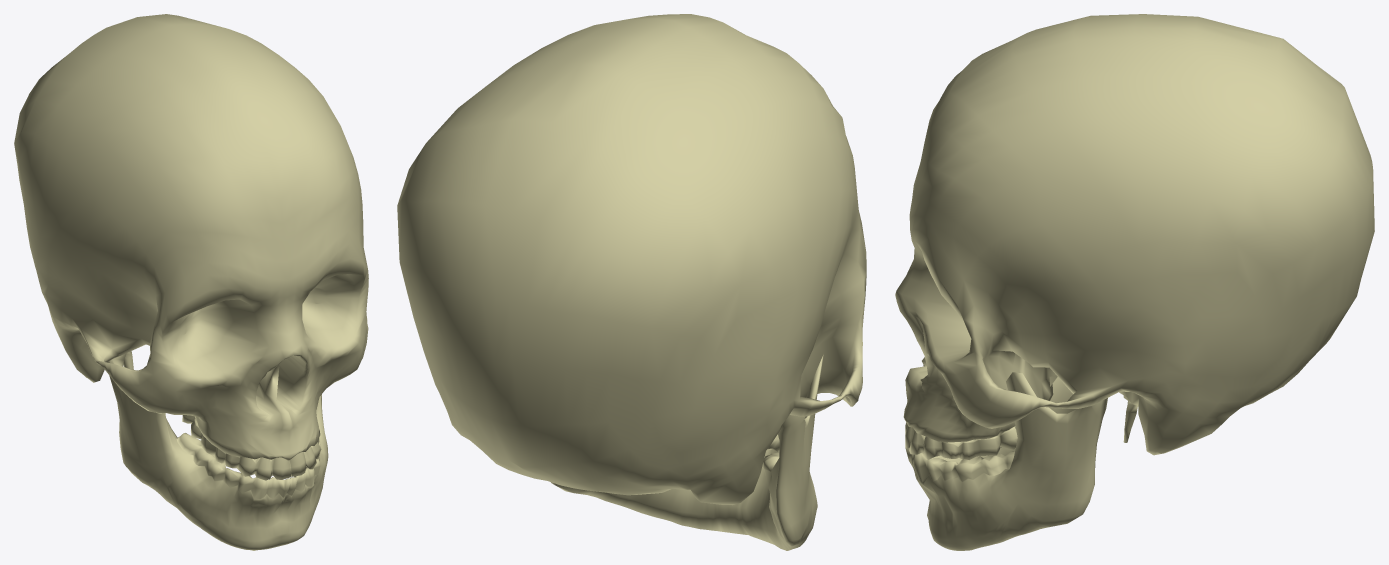
File: Craneo.dae
3 renders of one model, left to right at view 1: azimuth 30°, elevation 25°; view 2: azimuth 150°, elevation 25°; view 3: azimuth 270°, elevation 25°, orthographic. The views are drawn at different scales.
Visible parts, largest first — view 1: Dientes_002; view 2: Dientes_002; view 3: Dientes_002.
Part boxes in pixels (box(x1,y1,x2,y2)): Dientes_002: box(14, 14, 368, 550); Dientes_002: box(397, 14, 866, 550); Dientes_002: box(895, 14, 1374, 550).
Bounding box in the file's own units: 4.77 × 6.2 × 7.28.
